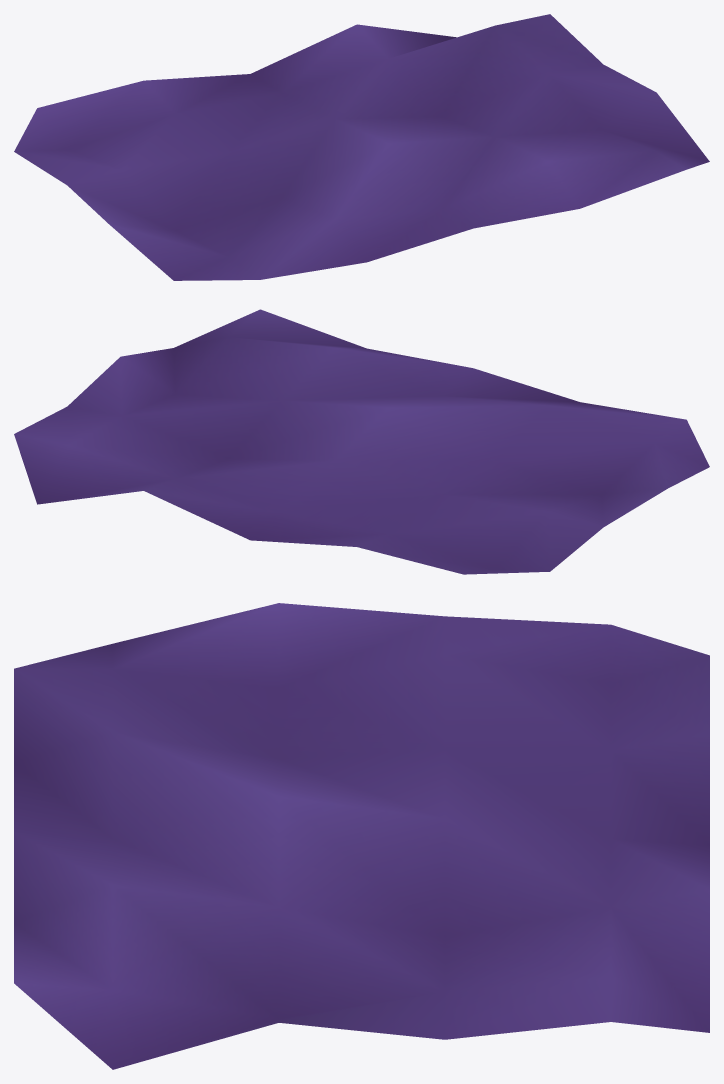
File: ChestSmall1_Velvet.fbx
3 views of the same model, one above another, from view 1: azimuth 30°, elevation 25°; view 2: azimuth 150°, elevation 25°; view 3: azimuth 270°, elevation 25° (orthographic). The views are drawn at different scales.
Visible parts, largest first — view 1: ChestSmall1_Velvet; view 2: ChestSmall1_Velvet; view 3: ChestSmall1_Velvet.
Part boxes in pixels (x1,y1,x2,y2): ChestSmall1_Velvet: (14,14,709,280); ChestSmall1_Velvet: (14,309,709,574); ChestSmall1_Velvet: (14,603,709,1069).
Bounding box in the file's own units: 29.28 × 2.43 × 20.66.
